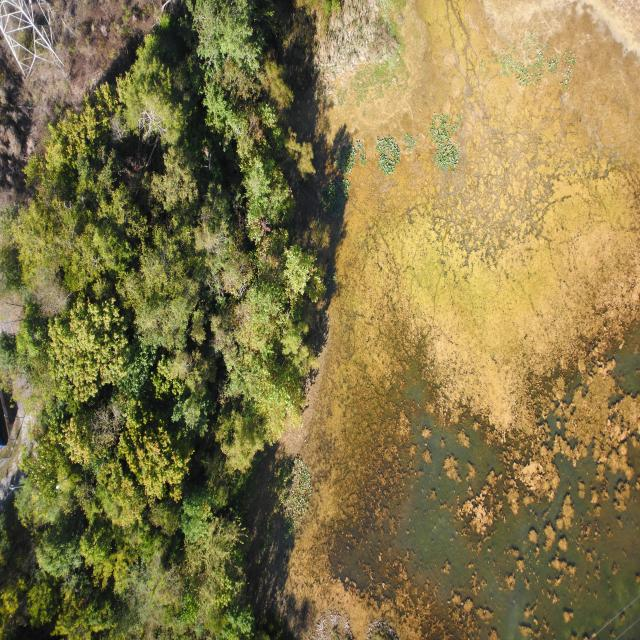Area of Interest: (6, 17, 300, 627)
